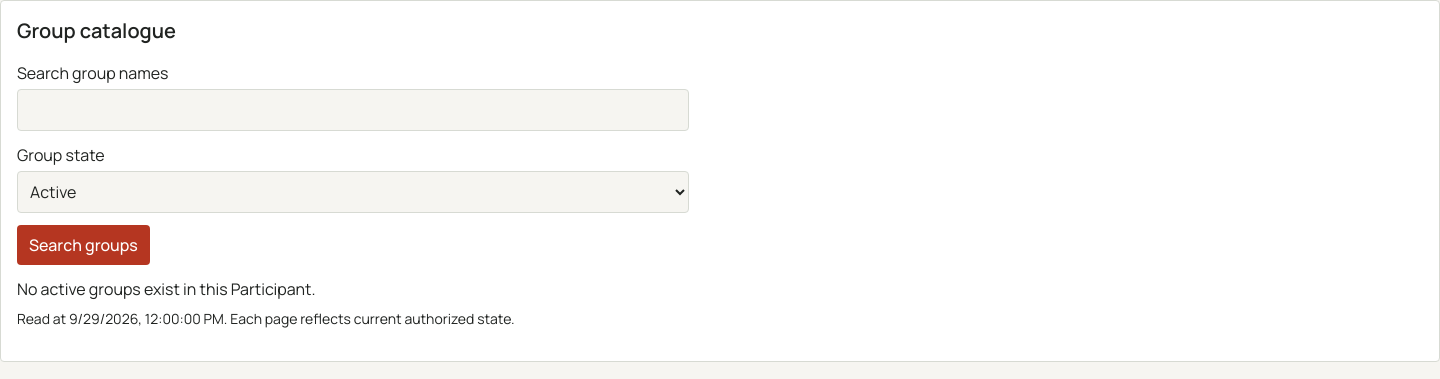
Test: distinguishes authorized empty results from failures and clears stale groups on context change
Later steps or results of the test are not shown.
Expected: the text "No active groups exist in this Participant." is shown, [17,278,316,300]
Select "All states" in the dropdown labelled "Group state". click: (353, 192)
box: [17,171,689,213]
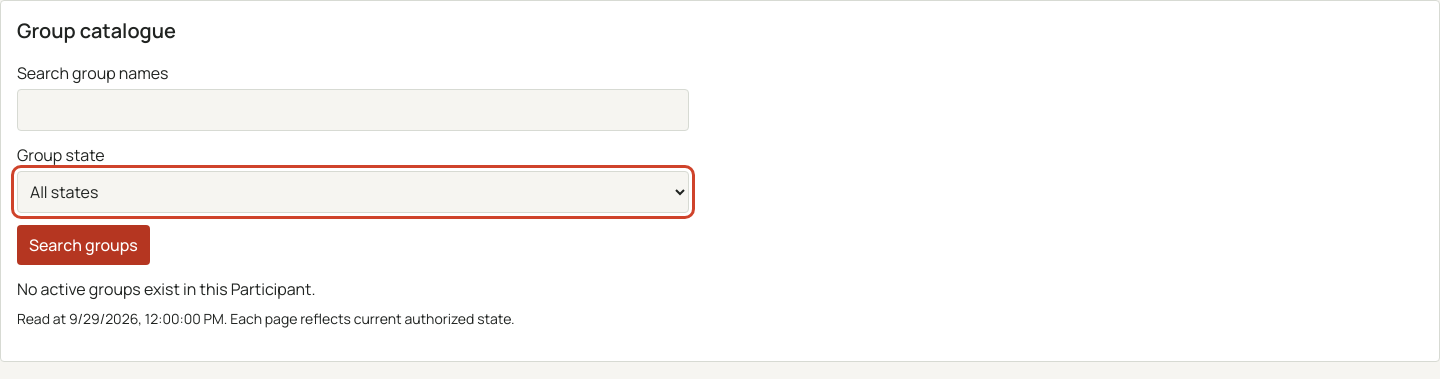
Type "ops" into the field labelled "Search group names". click: (353, 110)
box: [17,89,689,131]
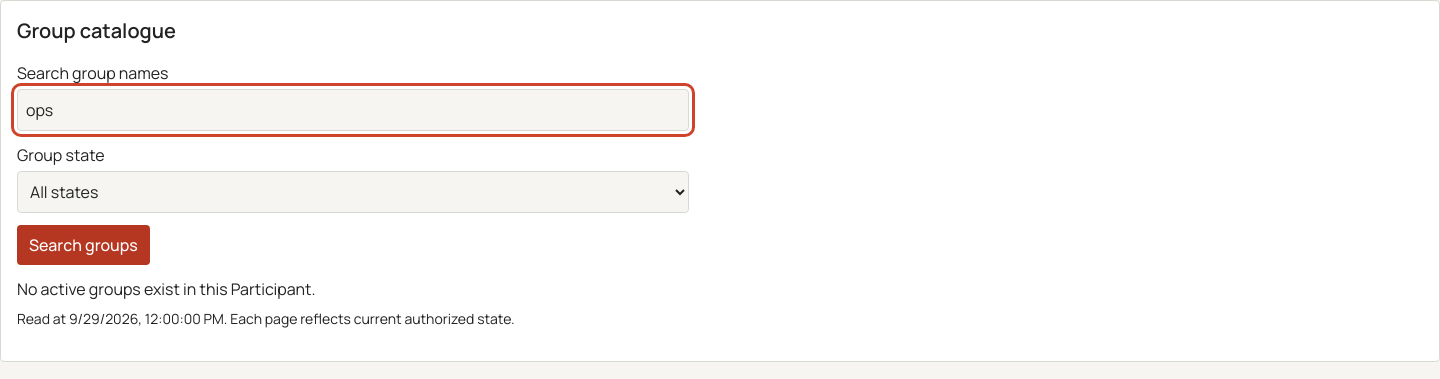
Click the button "Search groups". click: click(83, 245)
box: [17,225,150,265]
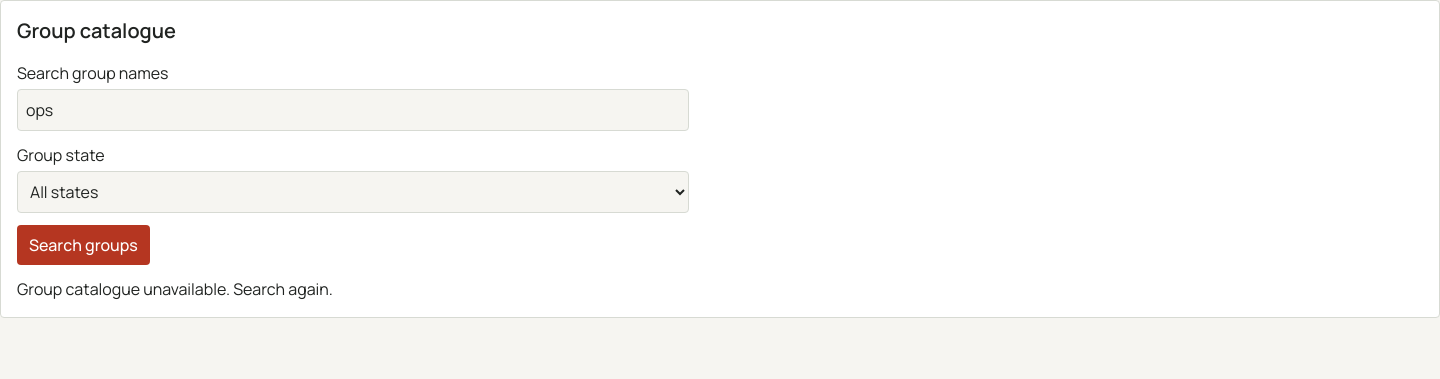
Now the text "Group catalogue unavailable. Search again." is shown, box [17,278,333,300]
Now the text "No active groups exist in this Participant." is gone
